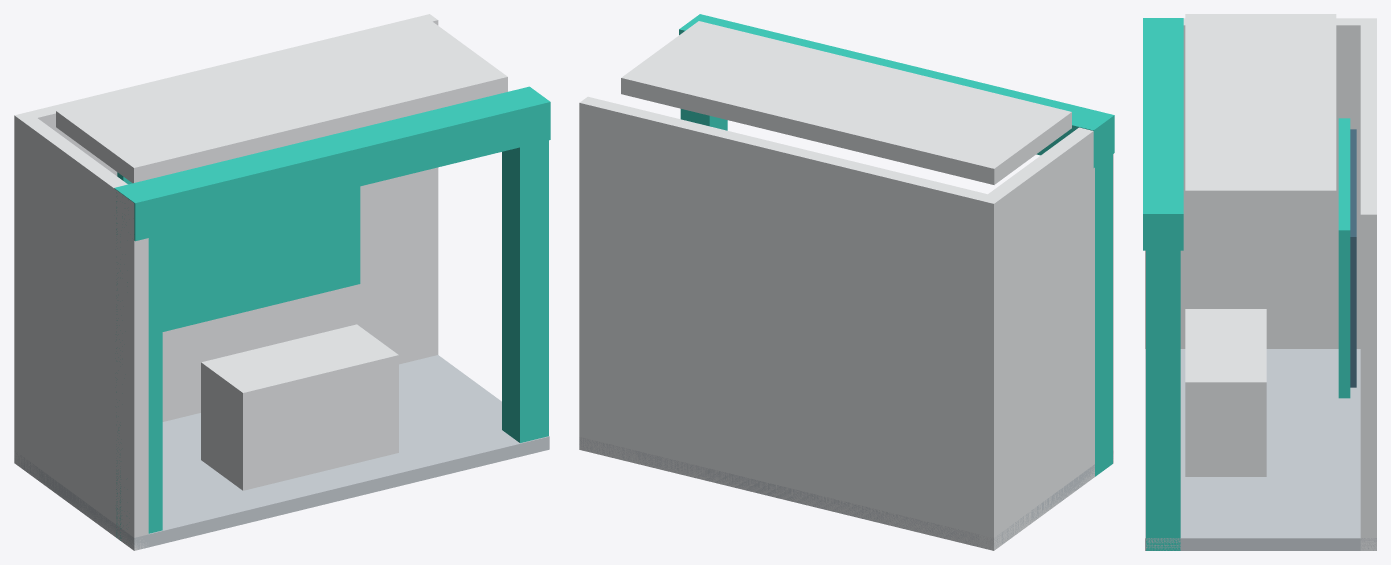
3 renders of one model, left to right at view 1: azimuth 30°, elevation 25°; view 2: azimuth 150°, elevation 25°; view 3: azimuth 270°, elevation 25°, orthographic. The views are drawn at different scales.
Visible parts, largest first — view 1: Exhibition Booth Concept; view 2: Exhibition Booth Concept; view 3: Exhibition Booth Concept.
Part boxes in pixels (bbox=[...]): Exhibition Booth Concept: bbox=[14, 14, 550, 550]; Exhibition Booth Concept: bbox=[579, 14, 1114, 550]; Exhibition Booth Concept: bbox=[1143, 14, 1376, 550].
Size of the model in its own units: 4 by 3.34 by 2.01.
